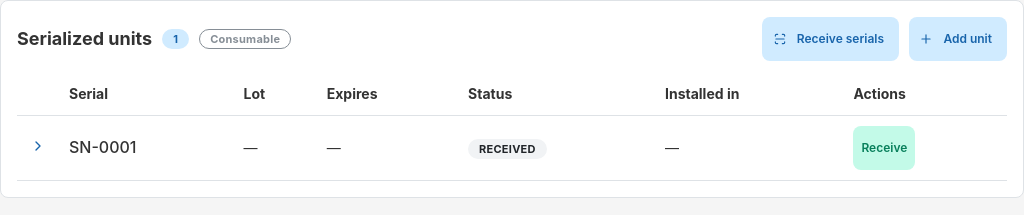
SerializedComponentsPanel › runs a simple lifecycle action and reflects the new status
Click the button with test id "serialized-action-receive-unit-1" at (884, 148), box [853, 126, 915, 170]
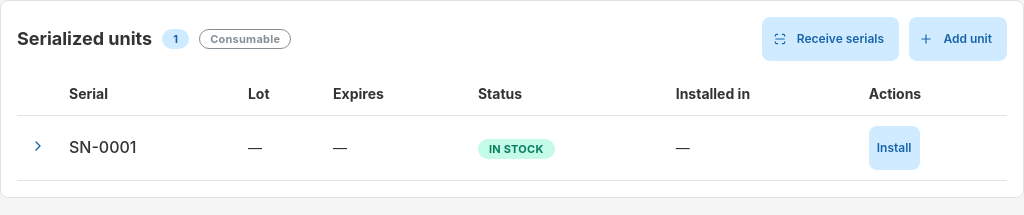
expect the text "In Stock" is shown: met, box [489, 140, 544, 158]
expect the button with test id "serialized-action-install-unit-1" is shown: met, box [869, 126, 920, 170]
